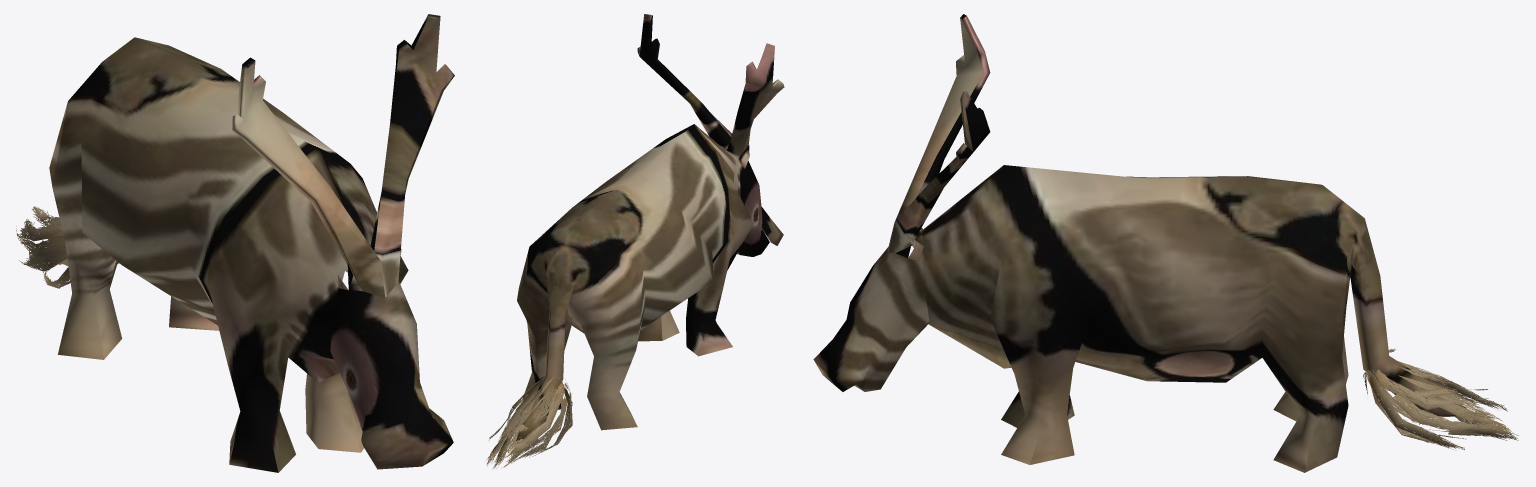
The model's file is runyip.far.glb.
The picture shows the model from 3 angles, left to right: view 1: azimuth 30°, elevation 25°; view 2: azimuth 150°, elevation 25°; view 3: azimuth 270°, elevation 25°; orthographic projection. The views are drawn at different scales.
Bounding box in the file's own units: 1.12 × 2.11 × 3.49.
2 materials, 2 textured.
